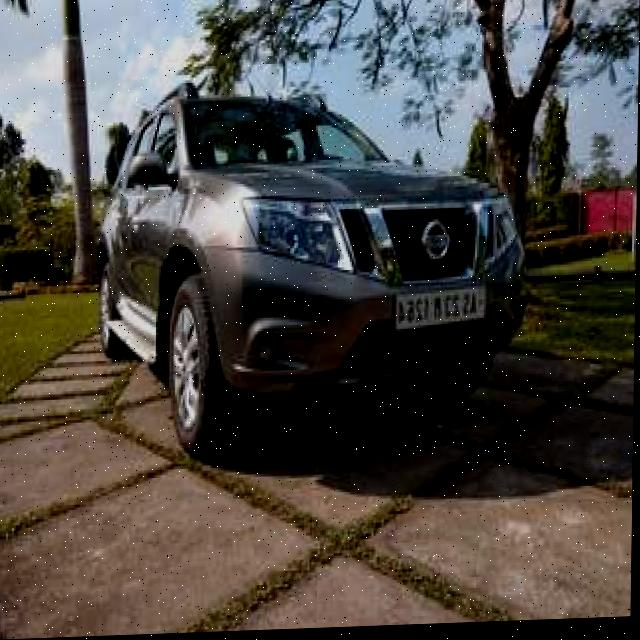plate: (394, 291, 488, 334)
